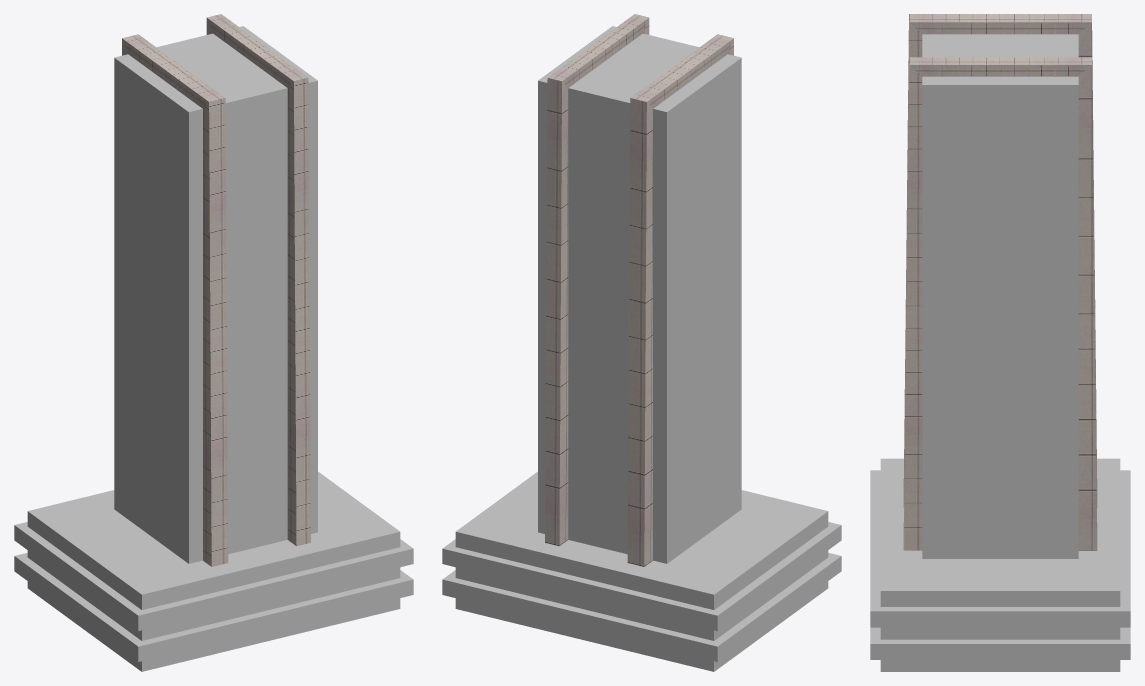
The model's file is building4.fbx.
3 renders of one model, left to right at view 1: azimuth 30°, elevation 25°; view 2: azimuth 150°, elevation 25°; view 3: azimuth 270°, elevation 25°, orthographic. The views are drawn at different scales.
Parts seen in each view (by area): view 1: Building3_BuildingTexture3_0; view 2: Building3_BuildingTexture3_0; view 3: Building3_BuildingTexture3_0.
Boxes of the visible parts, x1,y1,x2,y2 form: Building3_BuildingTexture3_0: (14, 14, 413, 671); Building3_BuildingTexture3_0: (442, 14, 841, 671); Building3_BuildingTexture3_0: (870, 14, 1130, 671).
Bounding box in the file's own units: 3034 × 5691 × 2366.
